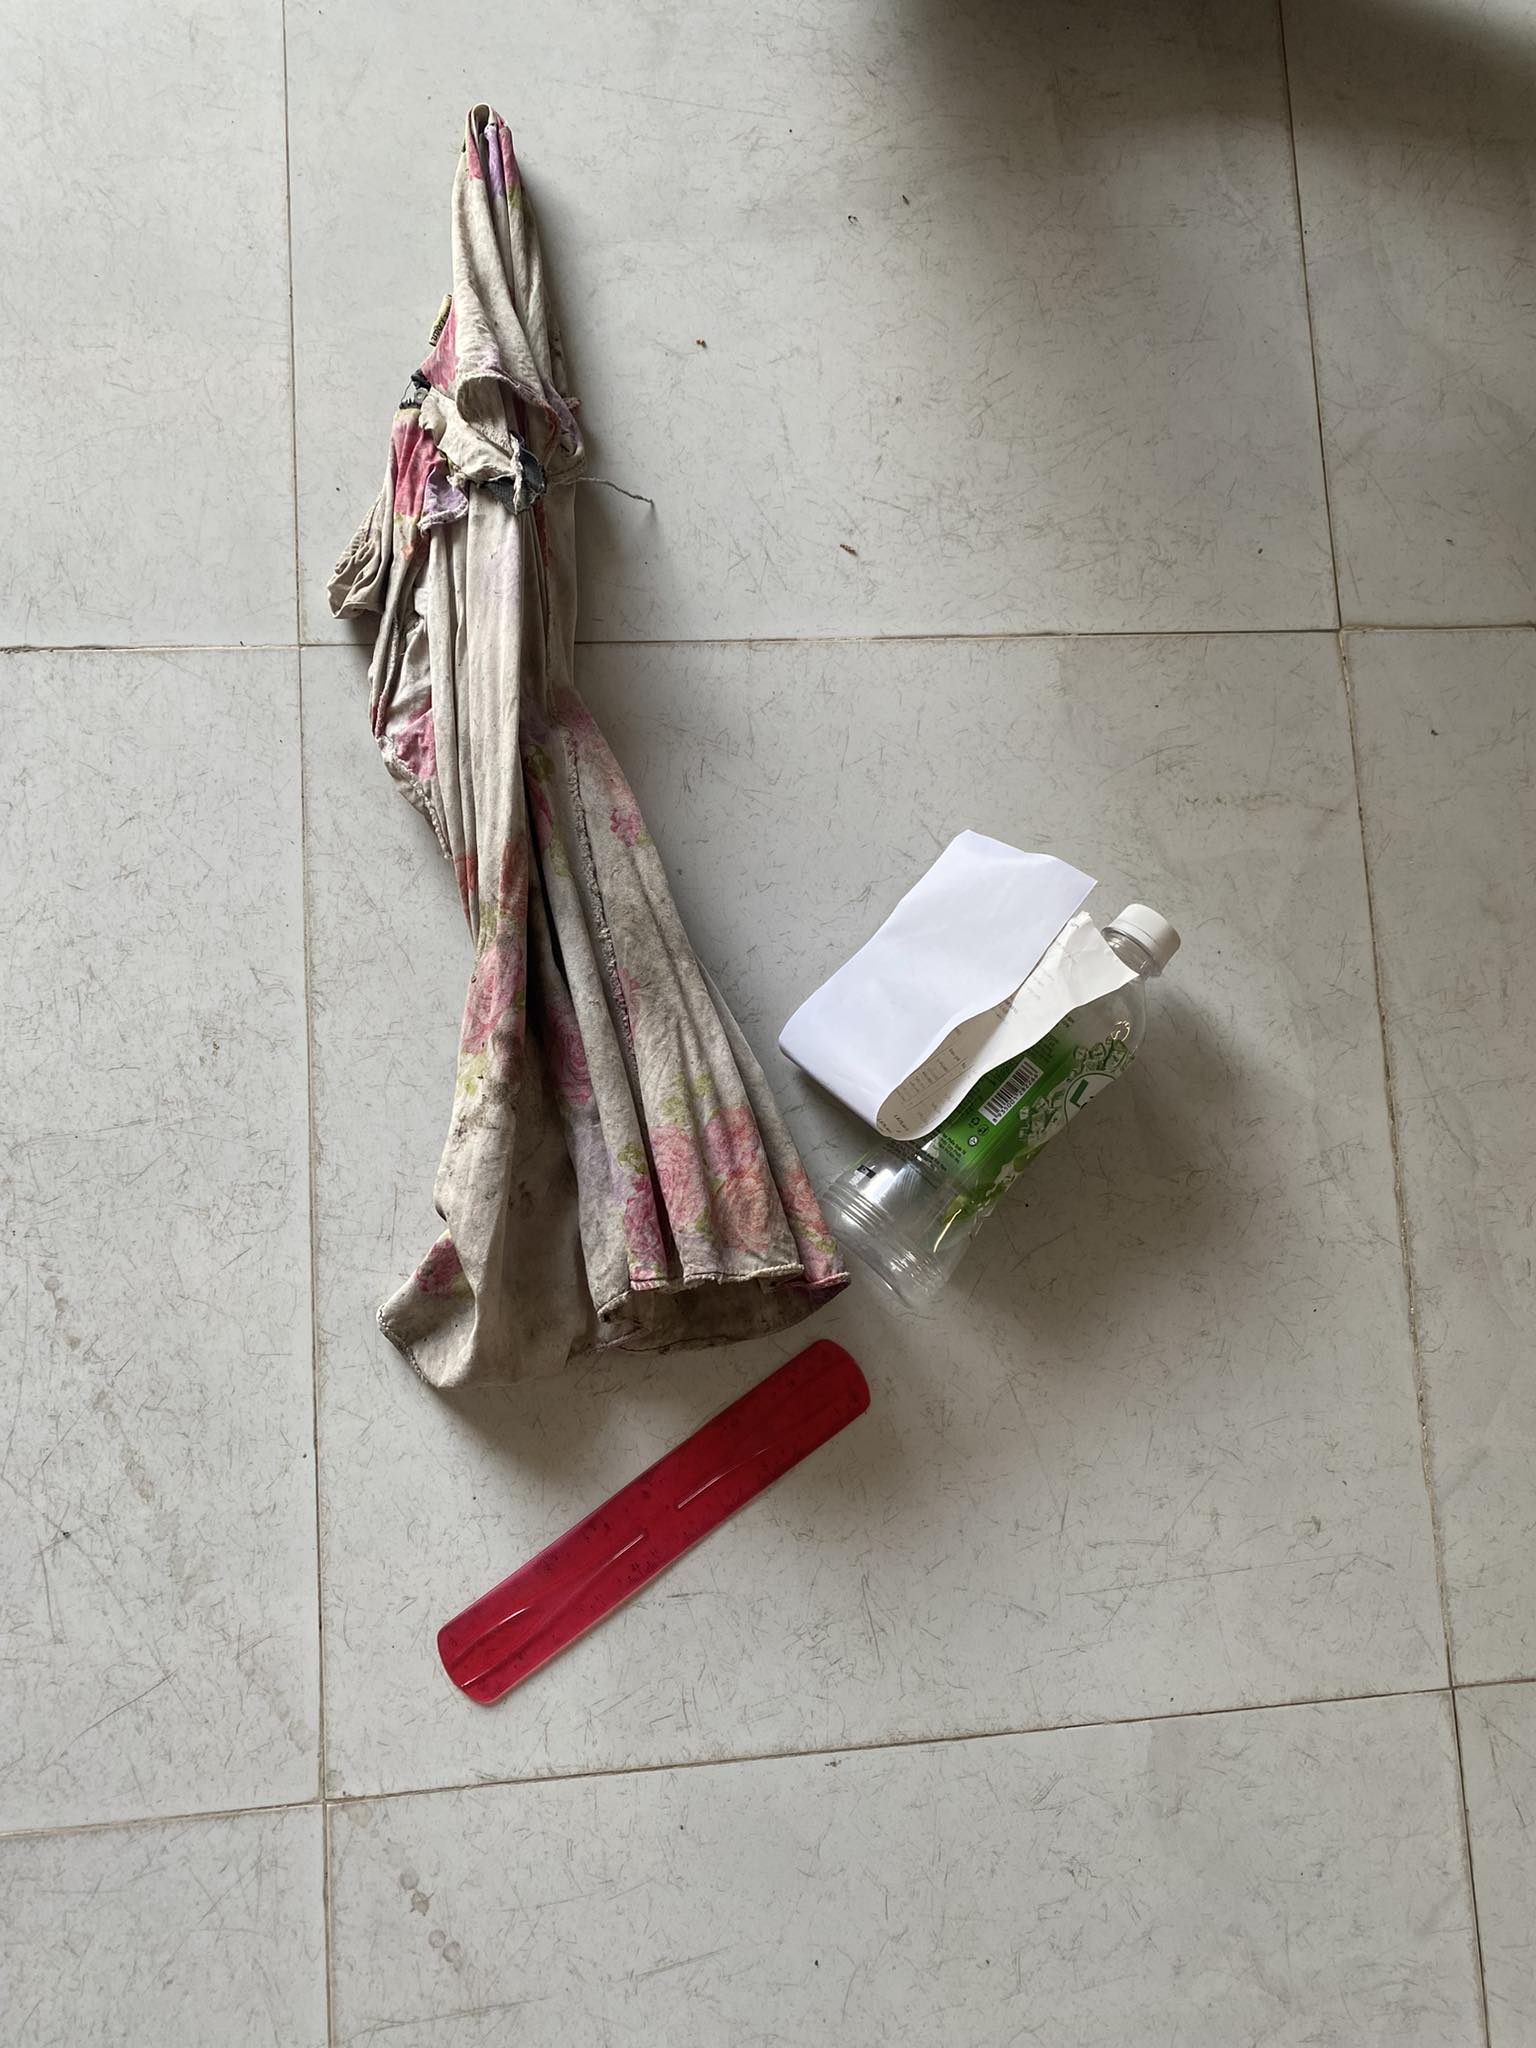clothes: (297, 106, 829, 1371)
paper: (753, 830, 1154, 1108)
plastic: (392, 1309, 887, 1698), (841, 872, 1191, 1351)
